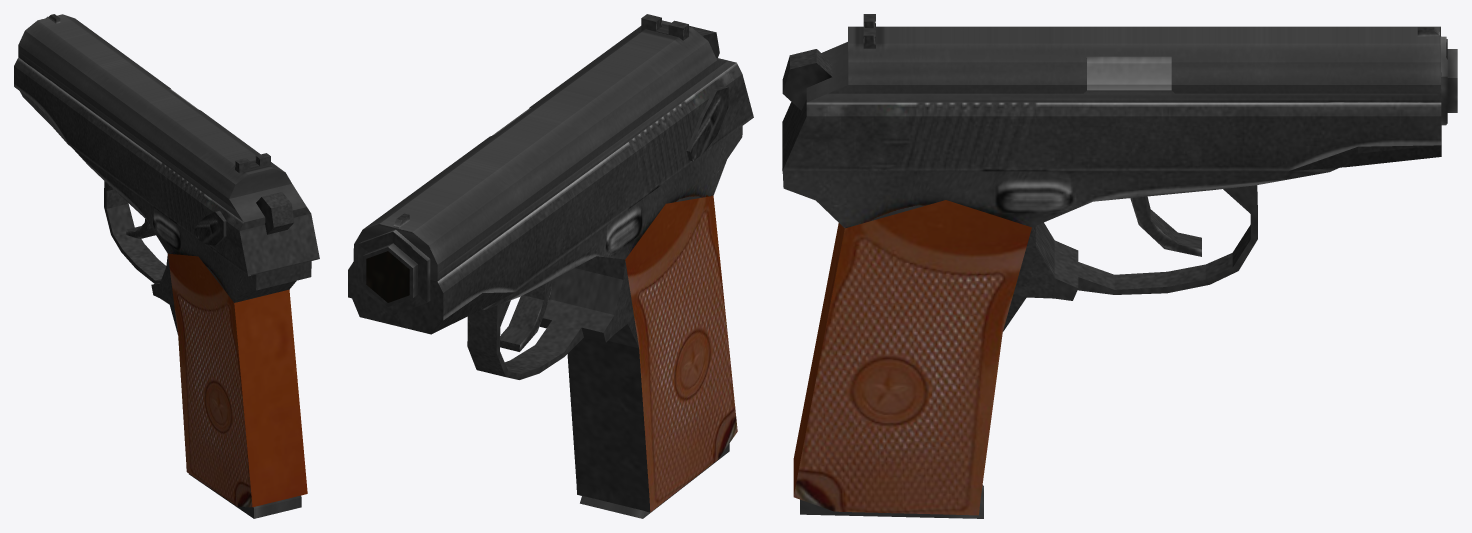
Rendered from Makarov.fbx.
3 renders of one model, left to right at view 1: azimuth 30°, elevation 25°; view 2: azimuth 150°, elevation 25°; view 3: azimuth 270°, elevation 25°, orthographic. The views are drawn at different scales.
Visible parts, largest first — view 1: Corp, Slide, Hammer, Magazine-Empty, Safer, Sight; view 2: Corp, Slide, Barrel, Trigger, Safer, Sight, Magazine-Empty; view 3: Slide, Corp, Extractor, Hammer, Trigger, Magazine-Empty, Barrel.
Boxes of the visible parts, <box> form: Corp: <box>72,117,317,507</box>; Slide: <box>14,14,319,276</box>; Hammer: <box>256,192,294,234</box>; Magazine-Empty: <box>189,266,301,518</box>; Safer: <box>195,210,226,245</box>; Sight: <box>48,14,270,172</box>; Corp: <box>441,126,742,512</box>; Slide: <box>348,20,753,334</box>; Barrel: <box>358,229,440,315</box>; Trigger: <box>500,280,552,351</box>; Safer: <box>686,86,728,161</box>; Sight: <box>393,14,688,228</box>; Magazine-Empty: <box>580,196,729,518</box>; Slide: <box>782,26,1441,171</box>; Corp: <box>782,122,1339,515</box>; Extractor: <box>1086,56,1171,90</box>; Hammer: <box>782,49,832,110</box>; Trigger: <box>1130,196,1201,256</box>; Magazine-Empty: <box>800,205,983,518</box>; Barrel: <box>1418,36,1457,125</box>.
Bounding box in the file's own units: 86.99 × 379 × 486.
